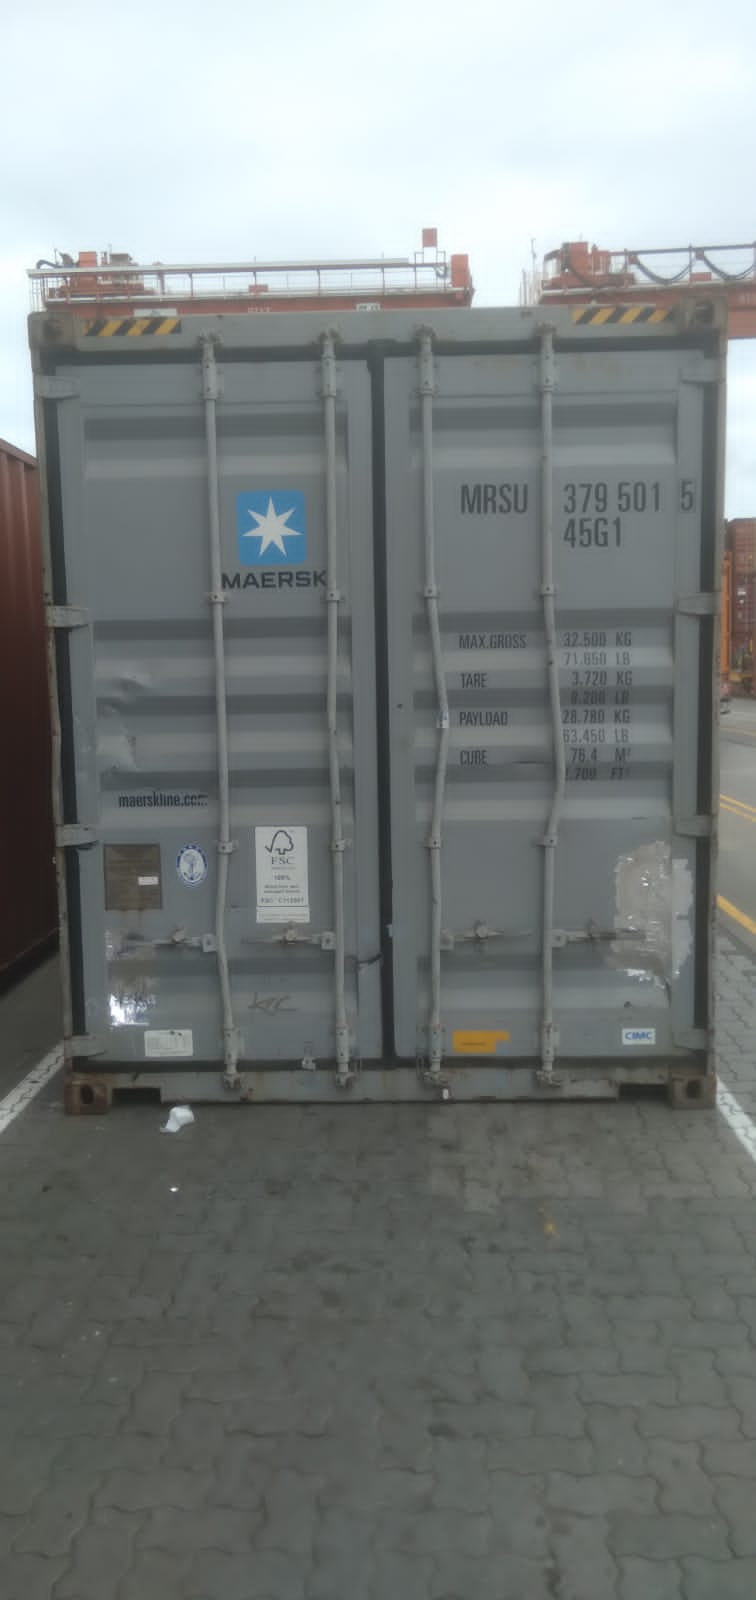rear_side: (34, 313, 714, 1101)
